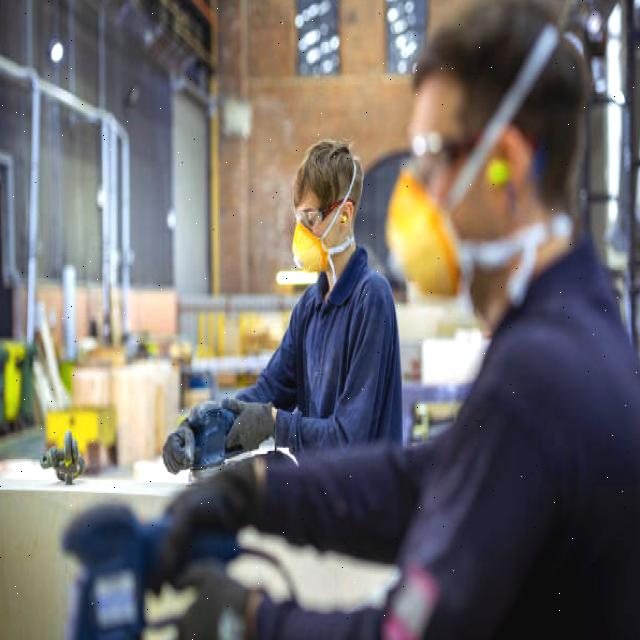Gloves: (161, 459, 265, 578), (178, 561, 249, 640), (408, 131, 477, 184), (222, 399, 274, 450), (163, 420, 195, 474), (295, 201, 341, 230)
Mask: (387, 171, 459, 294), (292, 223, 328, 272)
No Earmuff: (338, 200, 354, 230)
No Hardhat: (414, 0, 556, 131), (514, 38, 588, 209), (294, 138, 364, 208)
Overall Suit: (265, 245, 640, 640), (240, 247, 401, 452), (256, 600, 388, 640)
